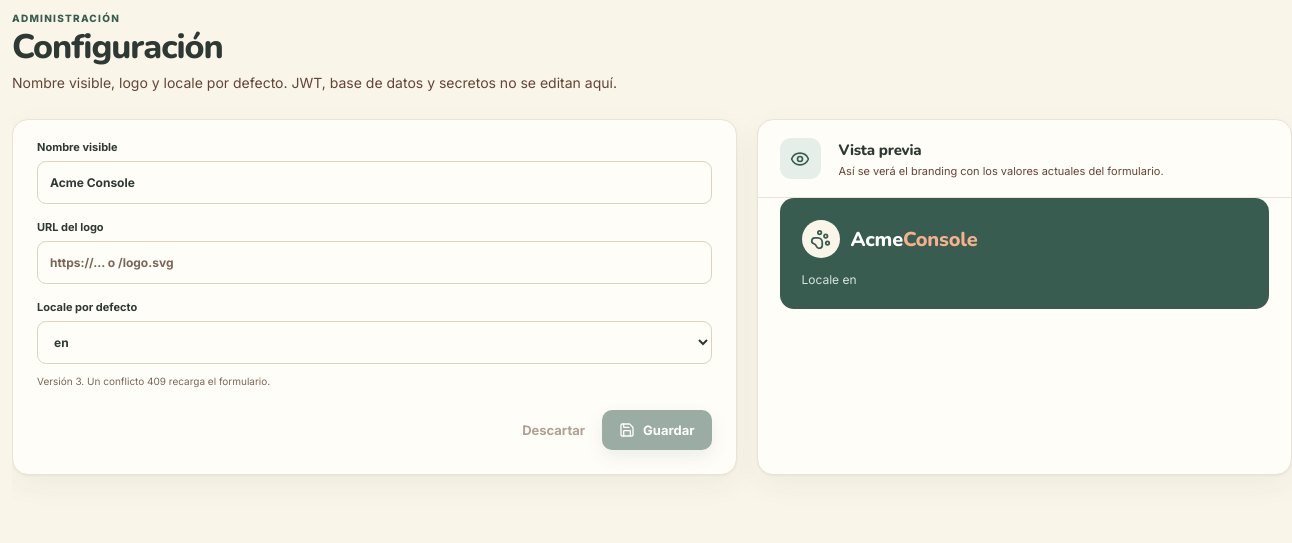
Test: GeneralSettingsPage › reloads after a 409 conflict
In the field showing "Acme Console": (374, 183) x1=37 y1=161 x2=712 y2=204, type " X"
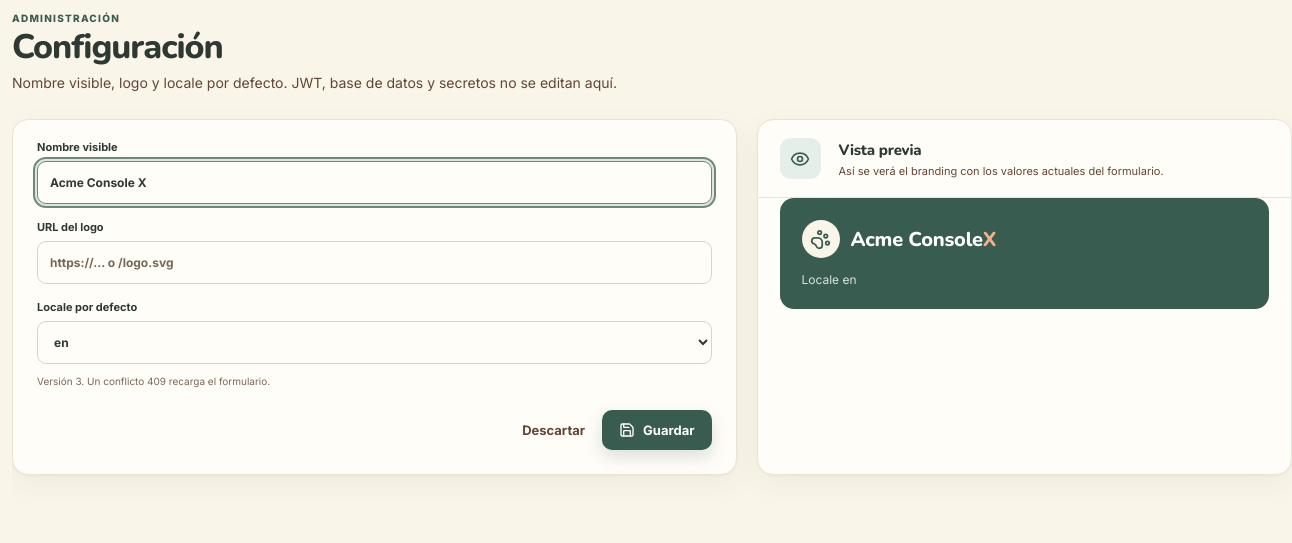
Click the button "Guardar": (657, 430) x1=602 y1=410 x2=712 y2=450
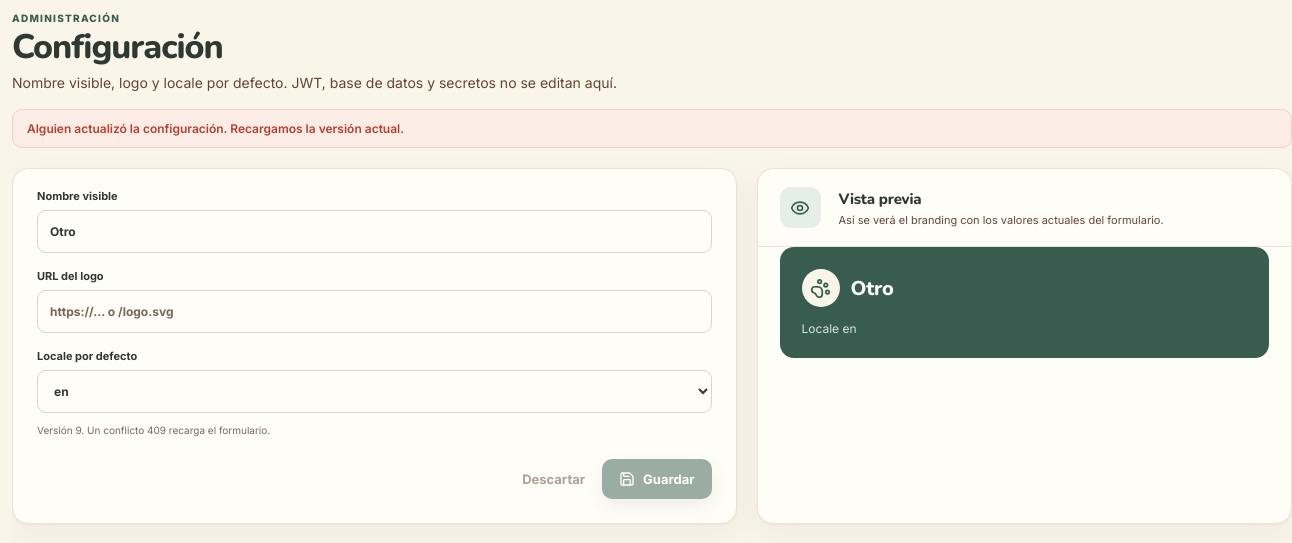
Now the text "Alguien actualizó la configuración. Recargamos la versión actual." is shown, box x1=12 y1=109 x2=1291 y2=148
Now the field showing "Otro" is shown, box x1=37 y1=210 x2=712 y2=253
